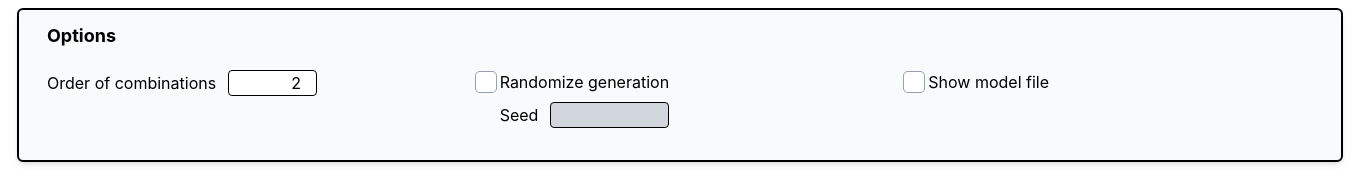
Test: OptionsSection › Should enable seed input when randomize generation is checked
This screenshot has width=1361, height=183.
Click the checkbox named "Randomize generation" next to "Randomize generation" at (486, 82), box [476,72,496,92]
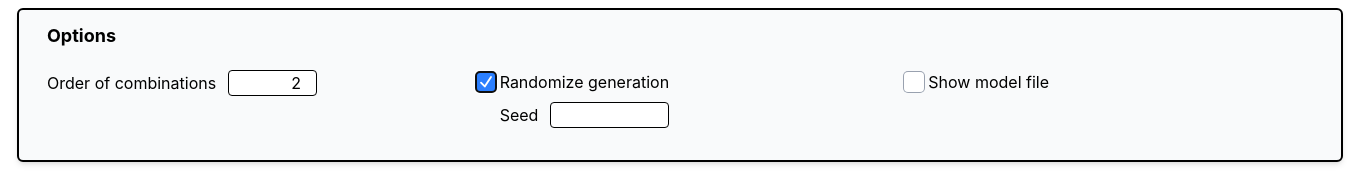
Expected: the checkbox named "Randomize generation" next to "Randomize generation" is checked, [476,72,496,92]
Expected: the number field labelled "Seed" is enabled, [550,102,669,128]
